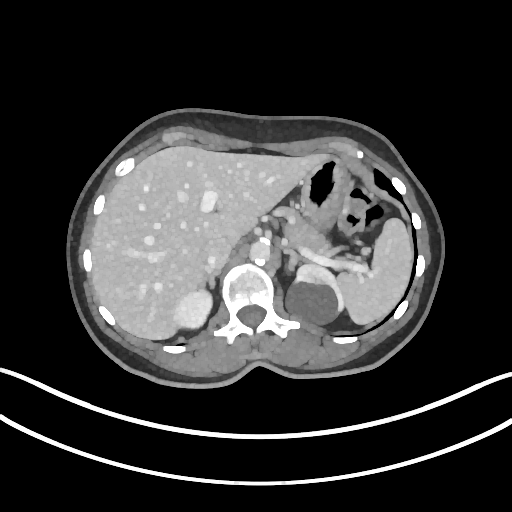Lesion: (282, 278, 343, 327)
